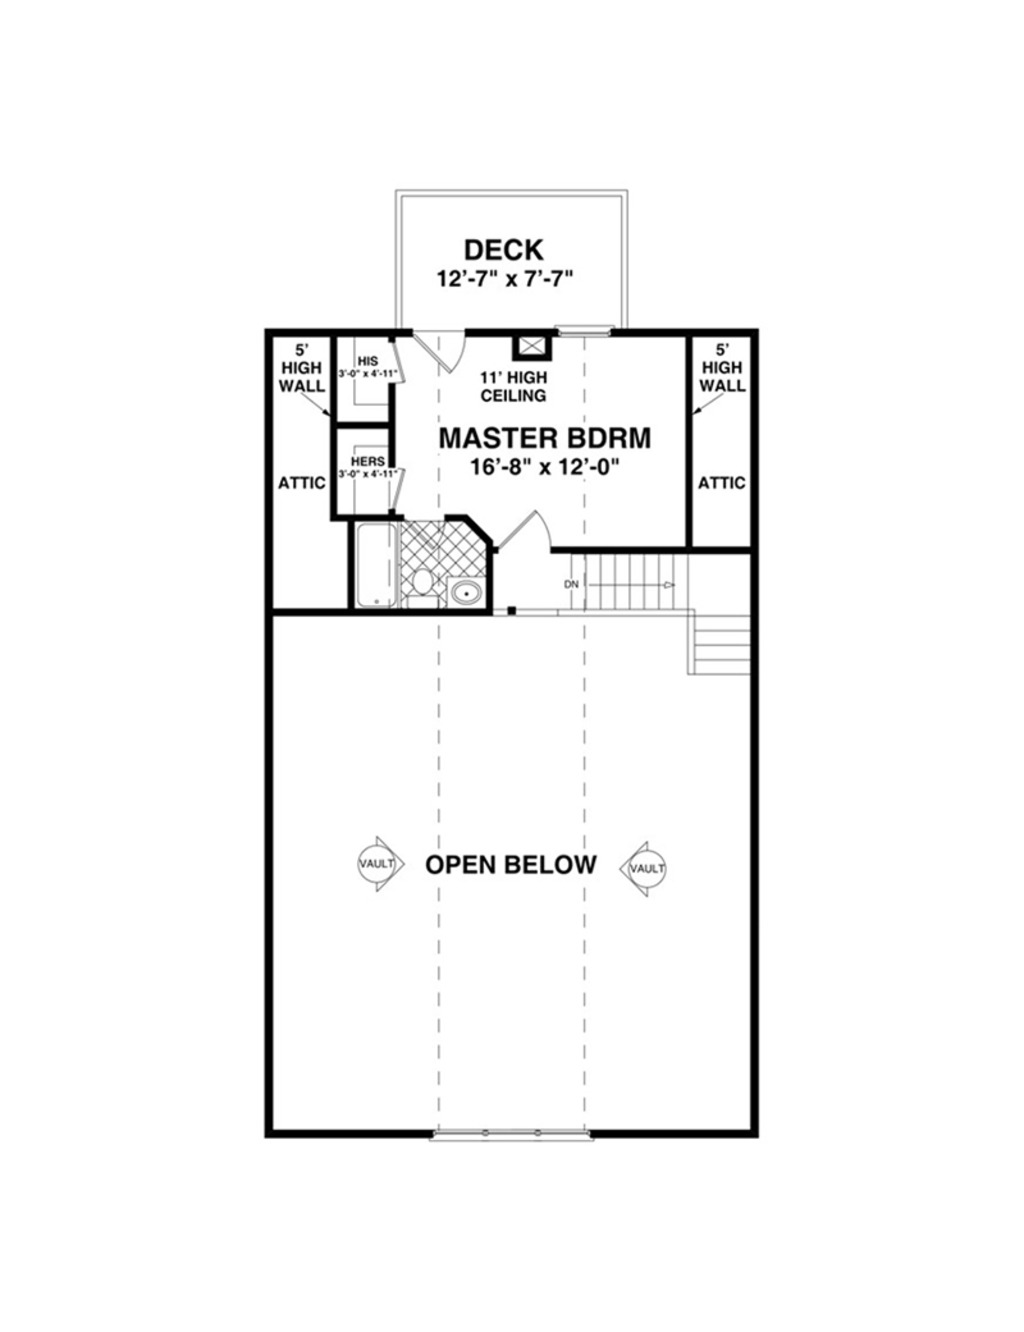door: (406, 329, 484, 377), (496, 495, 561, 550)
large_sink: (406, 558, 433, 608)
small_sink: (447, 559, 486, 610)
stairs: (540, 550, 763, 688)
tub: (352, 518, 402, 618)
window: (557, 314, 632, 345)
